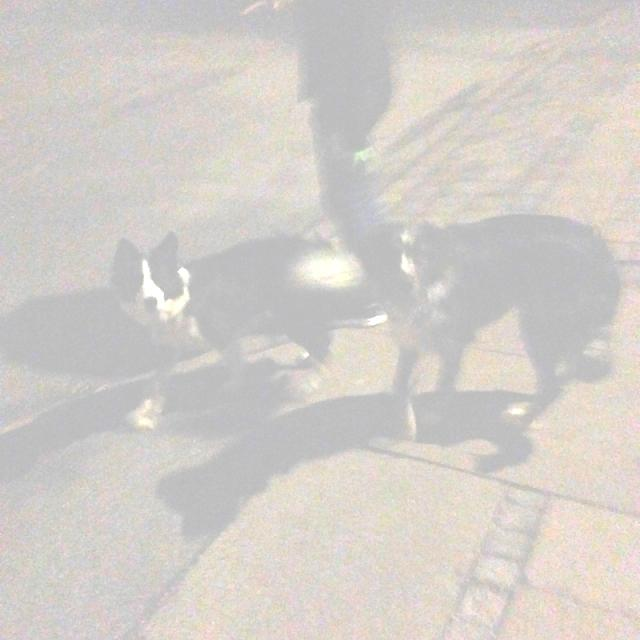Dog: (344, 213, 621, 445), (100, 235, 340, 439)
